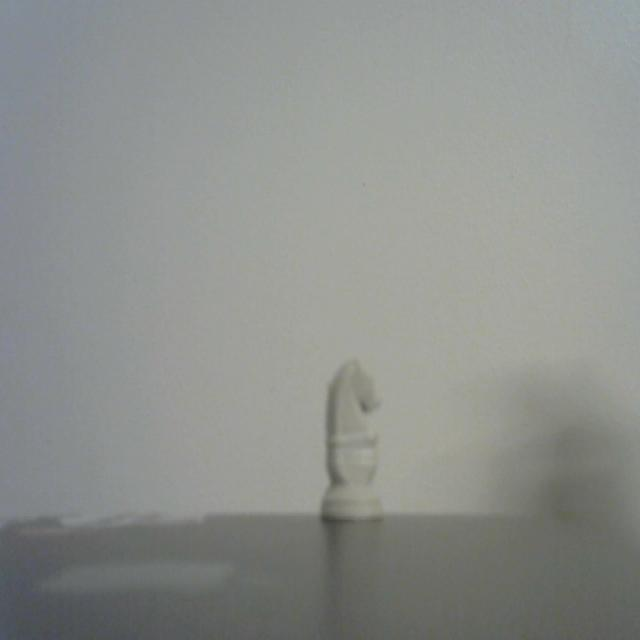white-knight: (306, 325, 401, 546)
